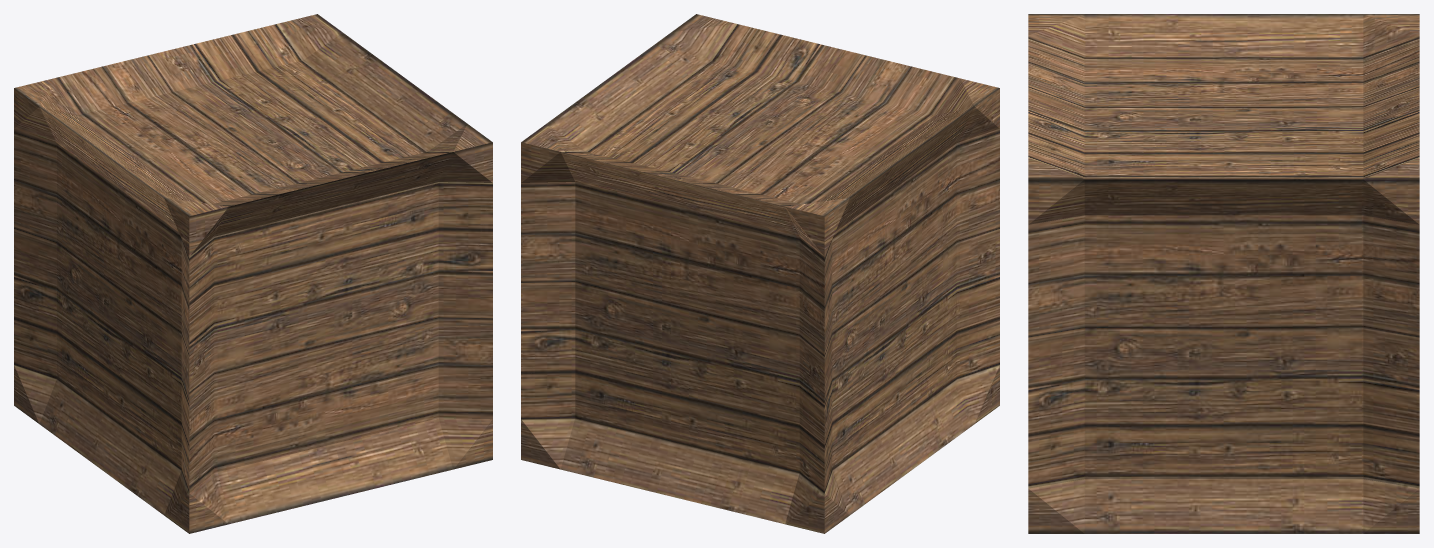
Rendered from Crate.dae.
3 renders of one model, left to right at view 1: azimuth 30°, elevation 25°; view 2: azimuth 150°, elevation 25°; view 3: azimuth 270°, elevation 25°, orthographic. The views are drawn at different scales.
Parts seen in each view (by area): view 1: Crate; view 2: Crate; view 3: Crate.
Part boxes in pixels (left/top/right/bottom): Crate: left=14, top=14, right=492, bottom=533; Crate: left=521, top=14, right=999, bottom=533; Crate: left=1028, top=14, right=1419, bottom=533.
Bounding box in the file's own units: 1 × 1 × 1.
